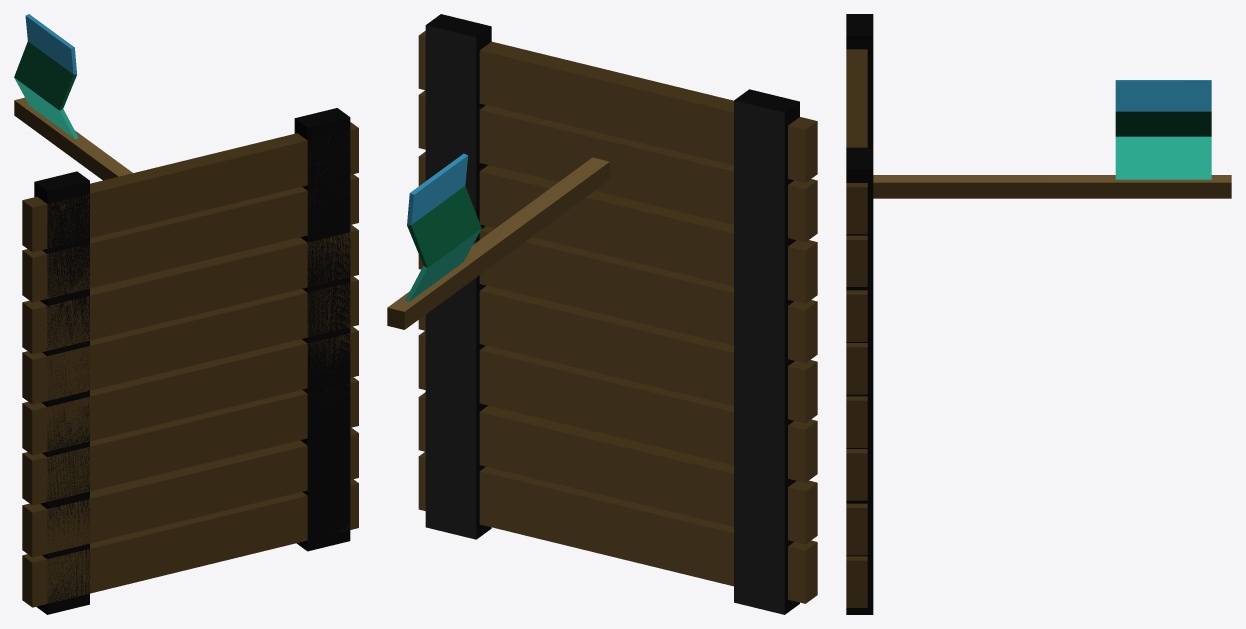
File: ship_3.fbx
3 views of the same model, side by side, from view 1: azimuth 30°, elevation 25°; view 2: azimuth 150°, elevation 25°; view 3: azimuth 270°, elevation 25° (orthographic). The views are drawn at different scales.
Visible parts, largest first — view 1: ship_3; view 2: ship_3; view 3: ship_3.
Part boxes in pixels (x1,y1,x2,y2): ship_3: (14,14,358,614); ship_3: (387,14,817,614); ship_3: (846,14,1231,614).
Size of the model in its own units: 34.9 by 44.52 by 33.96.
